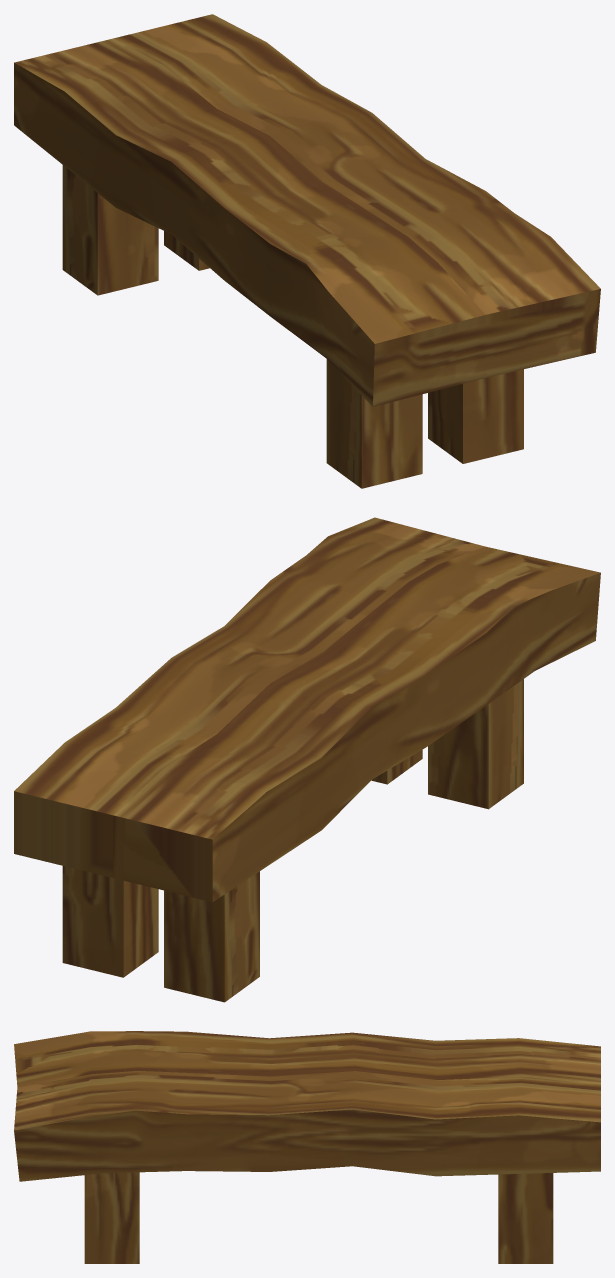
Rendered from Chair.fbx.
3 views of the same model, one above another, from view 1: azimuth 30°, elevation 25°; view 2: azimuth 150°, elevation 25°; view 3: azimuth 270°, elevation 25° (orthographic). The views are drawn at different scales.
Visible parts, largest first — view 1: 1.001; view 2: 1.001; view 3: 1.001.
Boxes of the visible parts, <box> form: 1.001: <box>14,14,600,488</box>; 1.001: <box>14,517,600,1002</box>; 1.001: <box>14,1031,600,1263</box>.
Bounding box in the file's own units: 17.04 × 14.9 × 48.91.
1 material, 1 textured.
